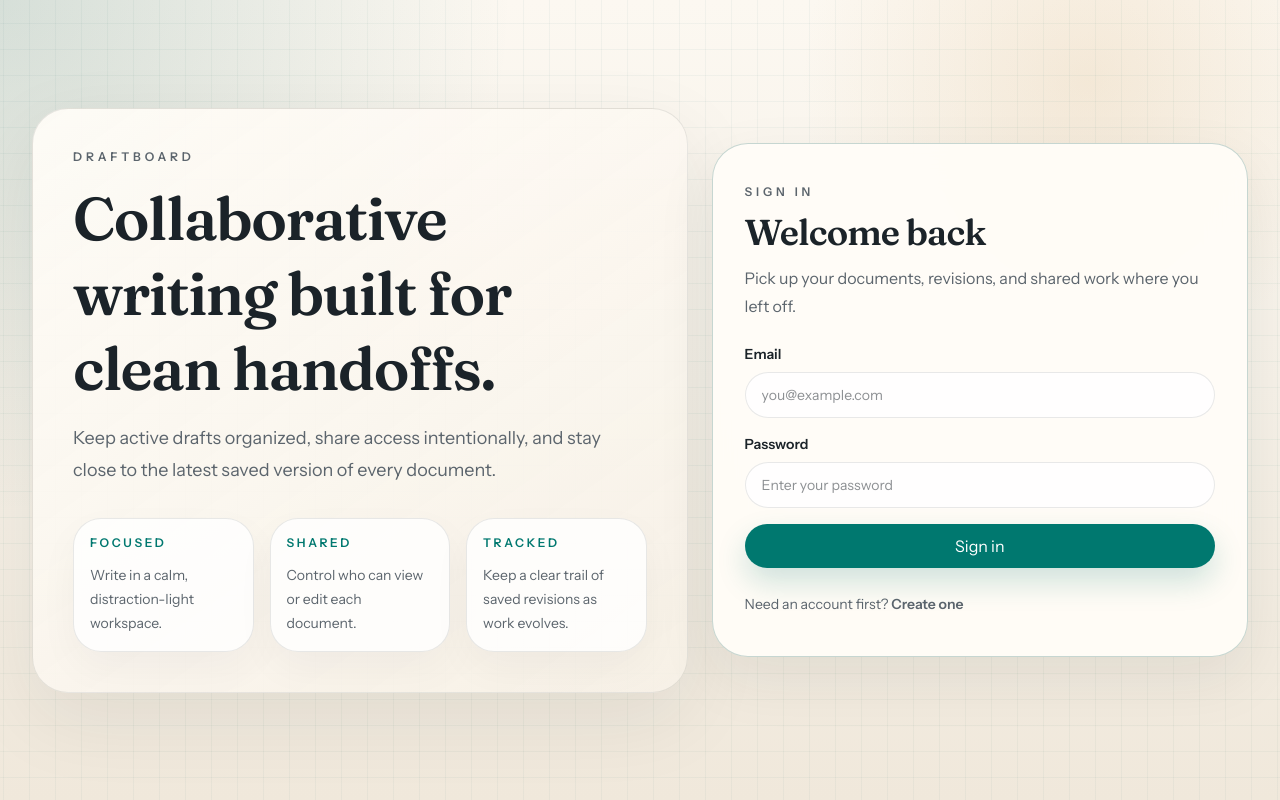
Test: AuthPage › shows backend login errors in the auth form
Type "alice@example.com" into the field labelled "Email" at [980, 395], box [745,372,1215,418]
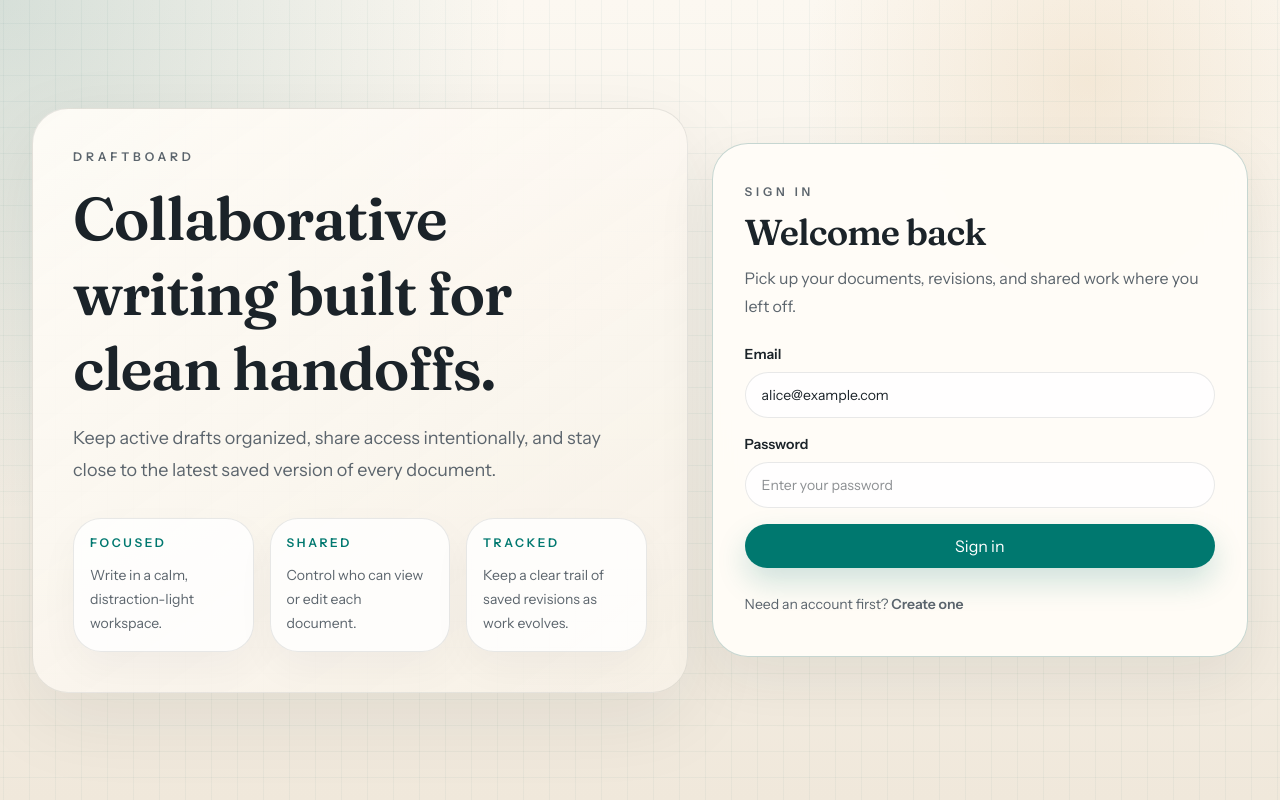
Type "bad-password" into the password field labelled "Password" at [980, 485], box [745,462,1215,508]
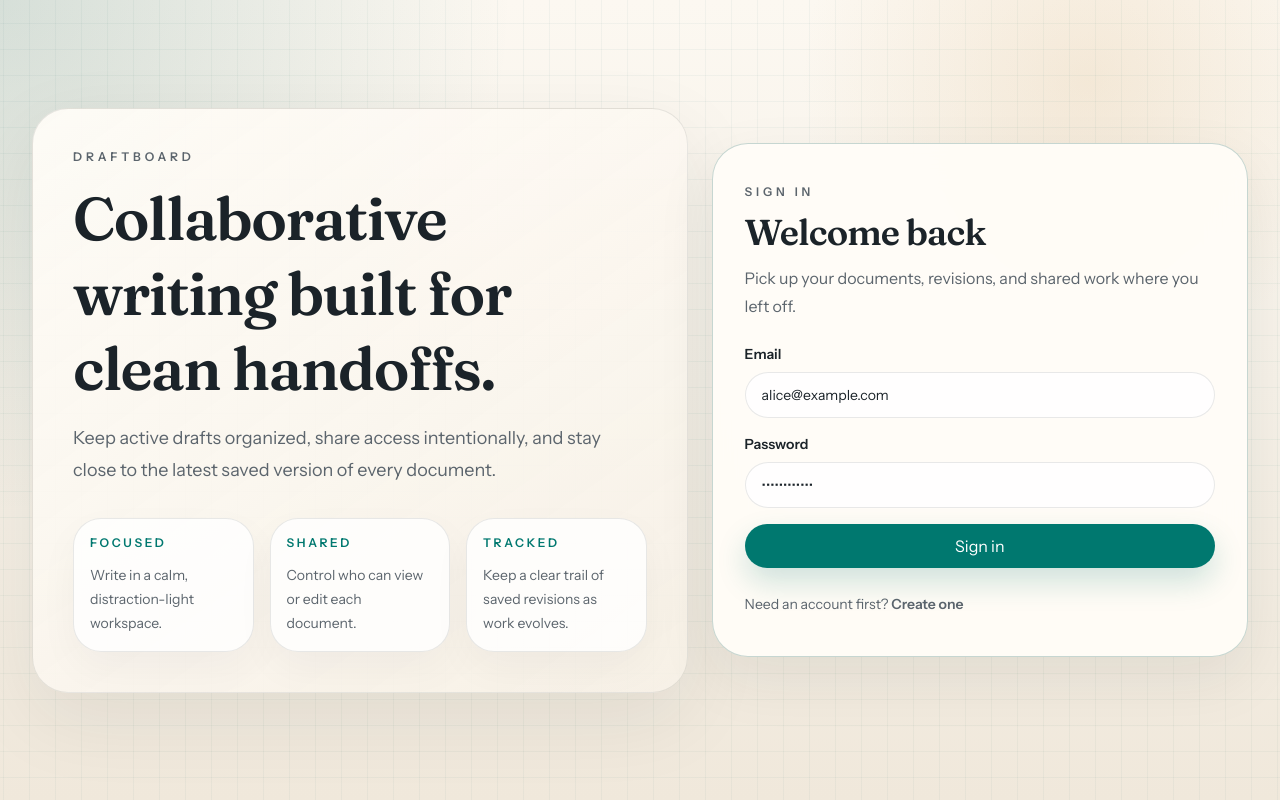
Click the button "Sign in" at [980, 546], box [745,524,1215,568]
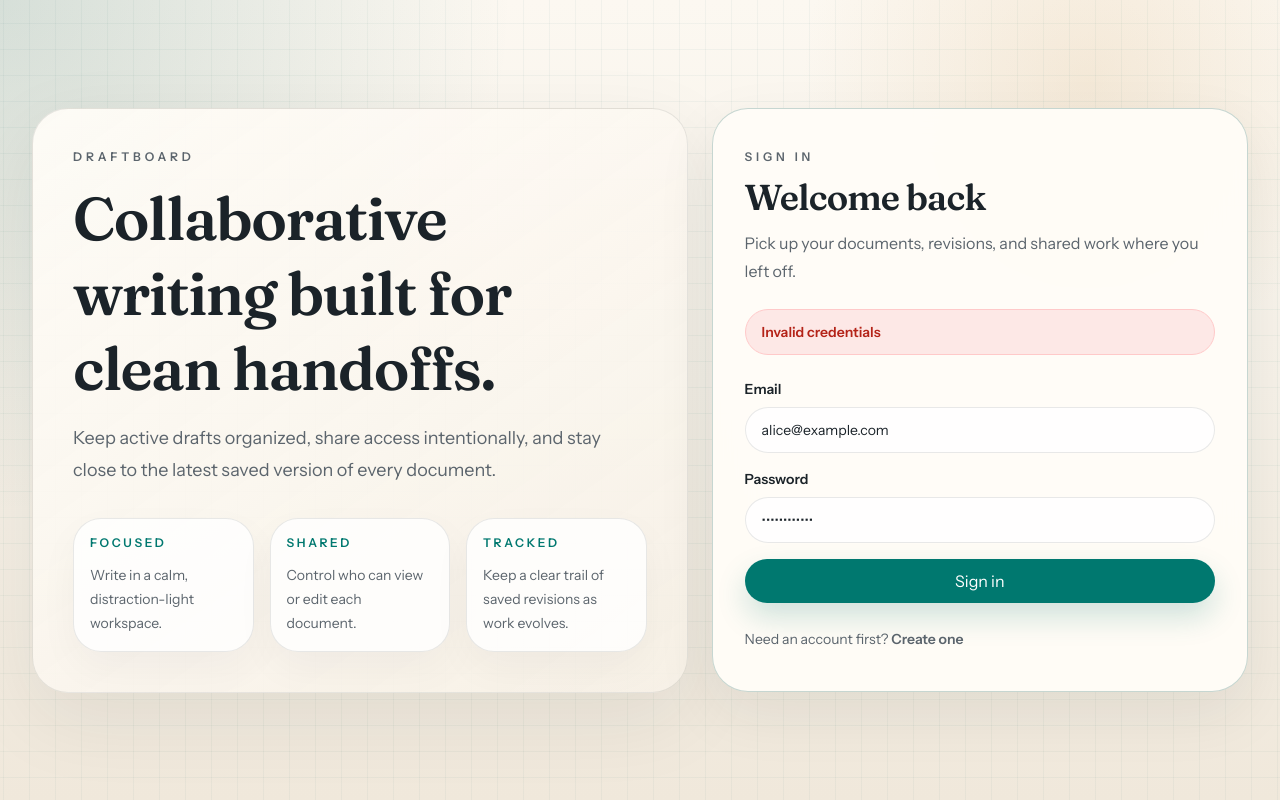
Expected: the text "Invalid credentials" is shown, [762,323,881,341]
